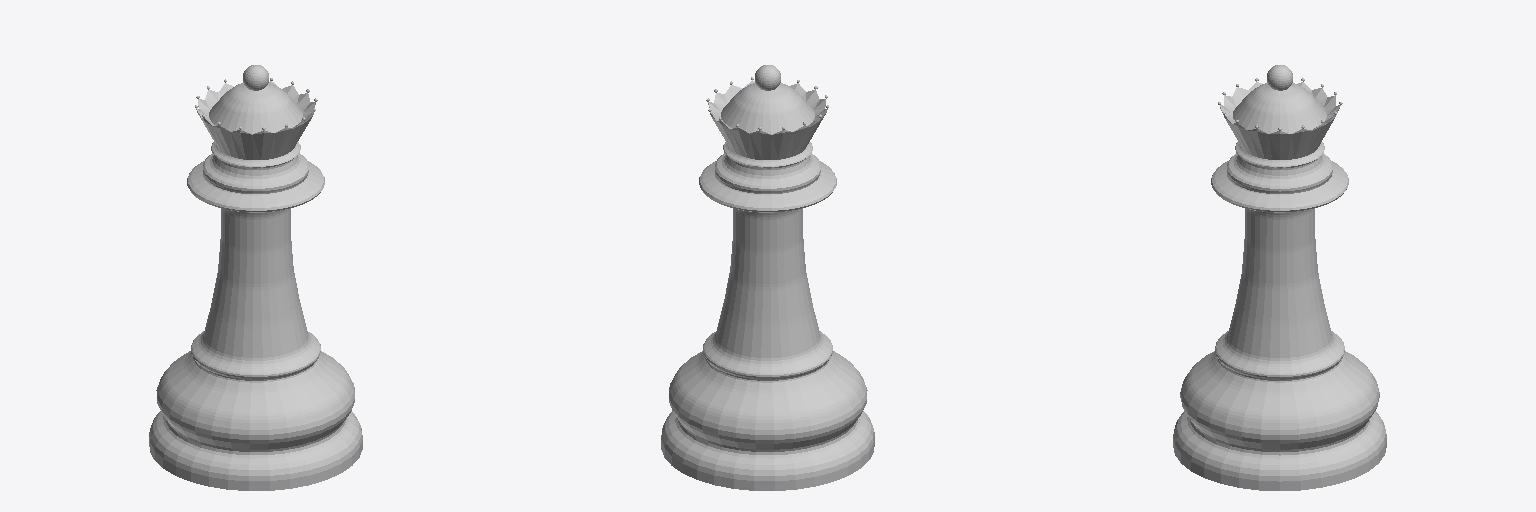
The model's file is queen.obj.
3 views of the same model, side by side, from view 1: azimuth 30°, elevation 25°; view 2: azimuth 150°, elevation 25°; view 3: azimuth 270°, elevation 25° (orthographic).
Visible parts, largest first — view 1: Dark_Queen_Sphere.001; view 2: Dark_Queen_Sphere.001; view 3: Dark_Queen_Sphere.001.
Part boxes in pixels (bbox=[...]): Dark_Queen_Sphere.001: bbox=[149, 65, 362, 490]; Dark_Queen_Sphere.001: bbox=[661, 65, 874, 490]; Dark_Queen_Sphere.001: bbox=[1173, 65, 1386, 490].
Size of the model in its own units: 1.36 by 2.66 by 1.36.